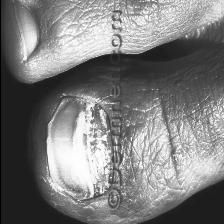Toxin: (50, 90, 106, 207)
